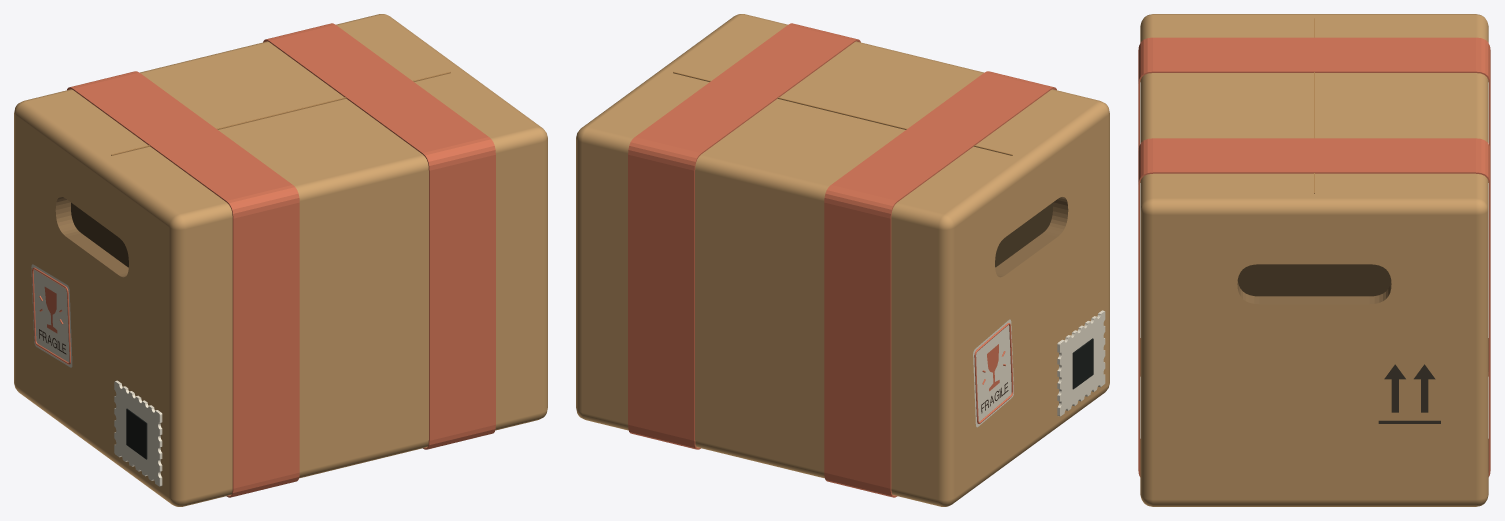
The model's file is play-parcel-large-coral.glb.
The picture shows the model from 3 angles, left to right: view 1: azimuth 30°, elevation 25°; view 2: azimuth 150°, elevation 25°; view 3: azimuth 270°, elevation 25°; orthographic projection. The views are drawn at different scales.
Visible parts, largest first — view 1: Parcel_Carton, Parcel_Tape_Parallel_1, Parcel_Tape_Parallel_2, Parcel_Paper_Label, Parcel_Care_Fragile_Paper, Parcel_Carry_Slot_Walls_Negative_X, Parcel_Carry_Slot_Interior_Negative_X, Parcel_Label_Square; view 2: Parcel_Carton, Parcel_Tape_Parallel_1, Parcel_Tape_Parallel_2, Parcel_Paper_Label, Parcel_Care_Fragile_Paper, Parcel_Carry_Slot_Walls_Negative_X, Parcel_Carry_Slot_Interior_Negative_X, Parcel_Label_Square; view 3: Parcel_Carton, Parcel_Tape_Parallel_2, Parcel_Tape_Parallel_1, Parcel_Carry_Slot_Interior_Positive_X, Parcel_Carry_Slot_Walls_Positive_X, Parcel_Up_Arrows_Positive_X.
Part boxes in pixels (x1,y1,x2,y2): Parcel_Carton: (14,14,547,506); Parcel_Tape_Parallel_1: (67,71,299,497); Parcel_Tape_Parallel_2: (263,23,495,449); Parcel_Paper_Label: (114,380,162,486); Parcel_Care_Fragile_Paper: (31,264,72,367); Parcel_Carry_Slot_Walls_Negative_X: (55,197,128,277); Parcel_Carry_Slot_Interior_Negative_X: (71,202,128,267); Parcel_Label_Square: (126,408,147,459); Parcel_Carton: (576,14,1109,506); Parcel_Tape_Parallel_1: (824,71,1056,497); Parcel_Tape_Parallel_2: (628,23,860,449); Parcel_Paper_Label: (1057,310,1105,416); Parcel_Care_Fragile_Paper: (973,319,1013,427); Parcel_Carry_Slot_Walls_Negative_X: (995,197,1068,277); Parcel_Carry_Slot_Interior_Negative_X: (995,202,1052,267); Parcel_Label_Square: (1072,338,1093,389); Parcel_Carton: (1140,14,1488,506); Parcel_Tape_Parallel_2: (1138,138,1490,476); Parcel_Tape_Parallel_1: (1138,37,1490,376); Parcel_Carry_Slot_Interior_Positive_X: (1237,264,1391,296); Parcel_Carry_Slot_Walls_Positive_X: (1237,281,1391,304); Parcel_Up_Arrows_Positive_X: (1378,364,1440,423).
Bounding box in the file's own units: 0.253 × 0.187 × 0.192.
